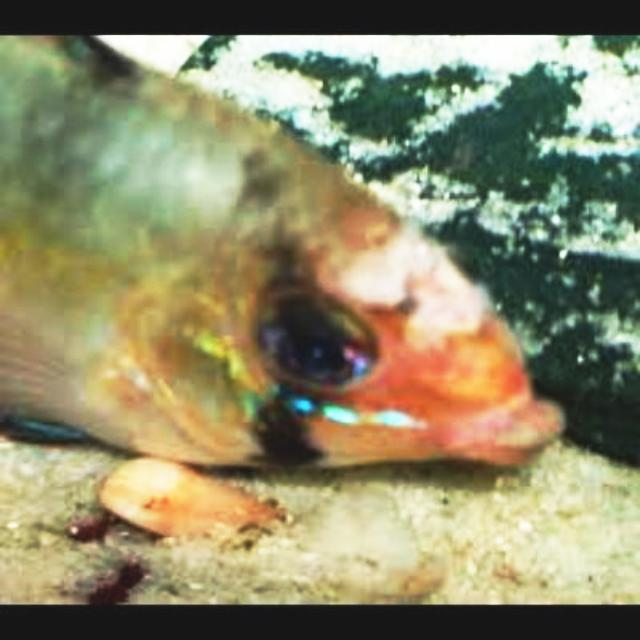Fungal Disease -Saprolegniasis-: (0, 39, 560, 465)
